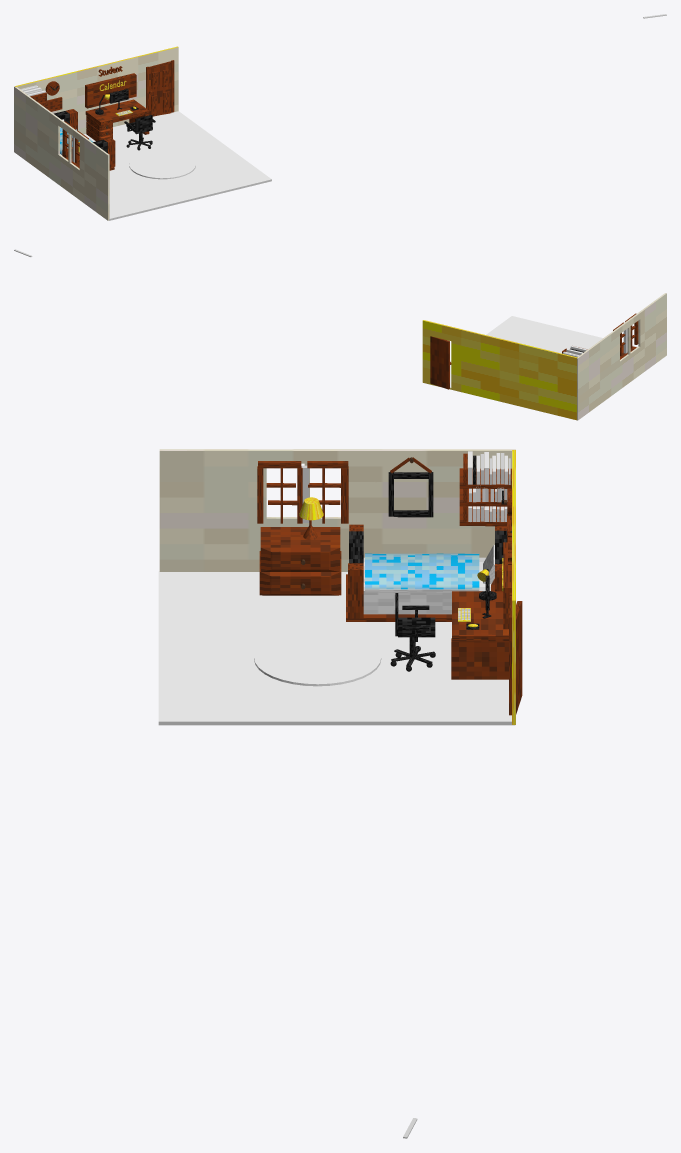
File: room7.glb
3 views of the same model, one above another, from view 1: azimuth 30°, elevation 25°; view 2: azimuth 150°, elevation 25°; view 3: azimuth 270°, elevation 25° (orthographic). The views are drawn at different scales.
Visible parts, largest first — view 1: Cube, Cube.001, Cube.002, Cylinder.007, Door, Calendar, Cube.018, Bed, Shelf; view 2: Cube.002, Cube.001, Cube, Door; view 3: Cube, Cube.001, Bed, Cylinder.007, Cube.017, Shelf, Cube.018, Cube.008, Cube.015, Cube.002.
Part boxes in pixels (x1,y1,x2,y2): Cube: (83,111,271,220); Cube.001: (14,86,109,220); Cube.002: (15,46,178,134); Cylinder.007: (129,150,195,179); Door: (149,64,171,116); Calendar: (85,73,136,108); Cube.018: (85,99,149,125); Bed: (54,109,115,170); Shelf: (20,85,47,108); Cube.002: (422,320,577,420); Cube.001: (577,293,666,420); Cube: (450,316,637,388); Door: (430,336,451,389); Cube: (158,571,514,725); Cube.001: (159,449,515,571); Bed: (346,524,511,621); Cylinder.007: (254,630,381,686); Cube.017: (260,527,340,571); Shelf: (459,451,511,526); Cube.018: (452,591,508,642); Cube.008: (451,638,508,679); Cube.015: (259,551,341,595); Cube.002: (512,450,515,724).
Bounding box in the file's own units: 69.72 × 7.03 × 18.56.
Materials: 20 (13 with a texture image).
